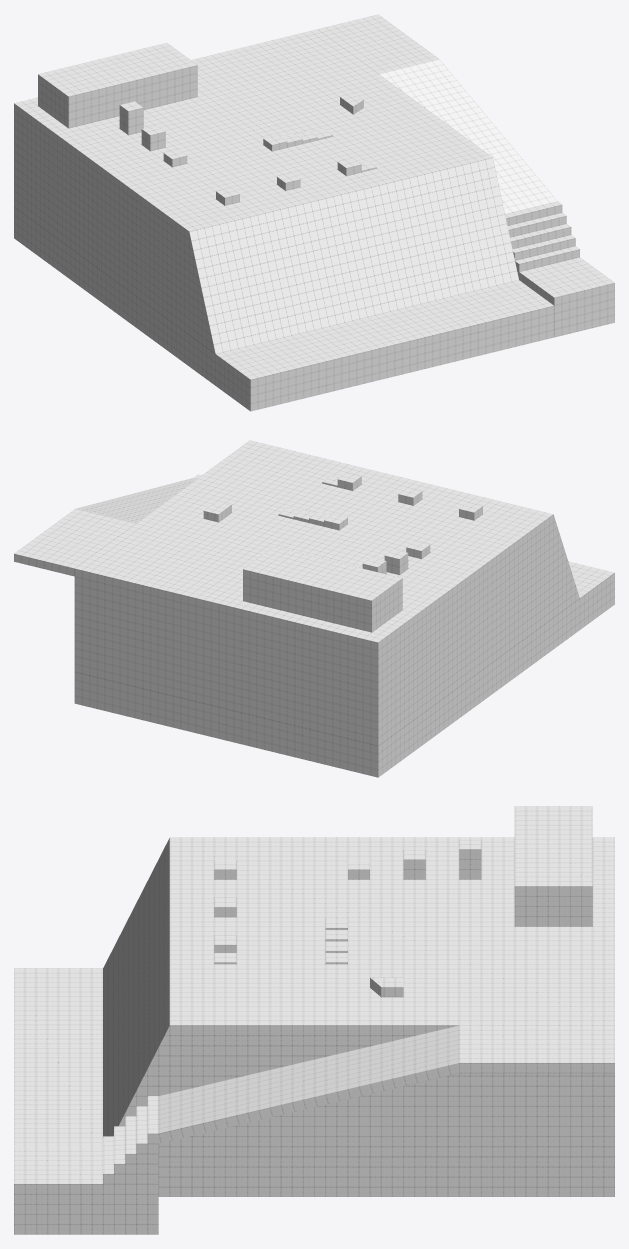
Rendered from playground.glb.
3 renders of one model, top to bottom at view 1: azimuth 30°, elevation 25°; view 2: azimuth 150°, elevation 25°; view 3: azimuth 270°, elevation 25°, orthographic. The views are drawn at different scales.
Parts seen in each view (by area): view 1: Floor, Cube.001, Wall, Cube.002, Cube.003; view 2: Floor, Wall, Cube.001, Cube.003; view 3: Floor, Cube.001, Wall, Cube.002, Cube.003, Cube.007.
Boxes of the visible parts, box(x1,y1,x2,y2) form: Floor: box(14, 29, 554, 411); Cube.001: box(318, 14, 614, 337); Wall: box(38, 43, 197, 128); Cube.002: box(119, 101, 143, 135); Cube.003: box(141, 125, 165, 151); Floor: box(74, 440, 614, 777); Wall: box(243, 547, 402, 632); Cube.001: box(14, 474, 201, 576); Cube.003: box(384, 549, 408, 574); Floor: box(14, 837, 614, 1196); Cube.001: box(14, 1025, 614, 1234); Wall: box(514, 806, 592, 926); Cube.002: box(459, 840, 481, 879); Cube.003: box(403, 850, 425, 879); Cube.007: box(370, 977, 403, 997).
Size of the model in its own units: 48 by 21 by 54.
1 material, 1 textured.
